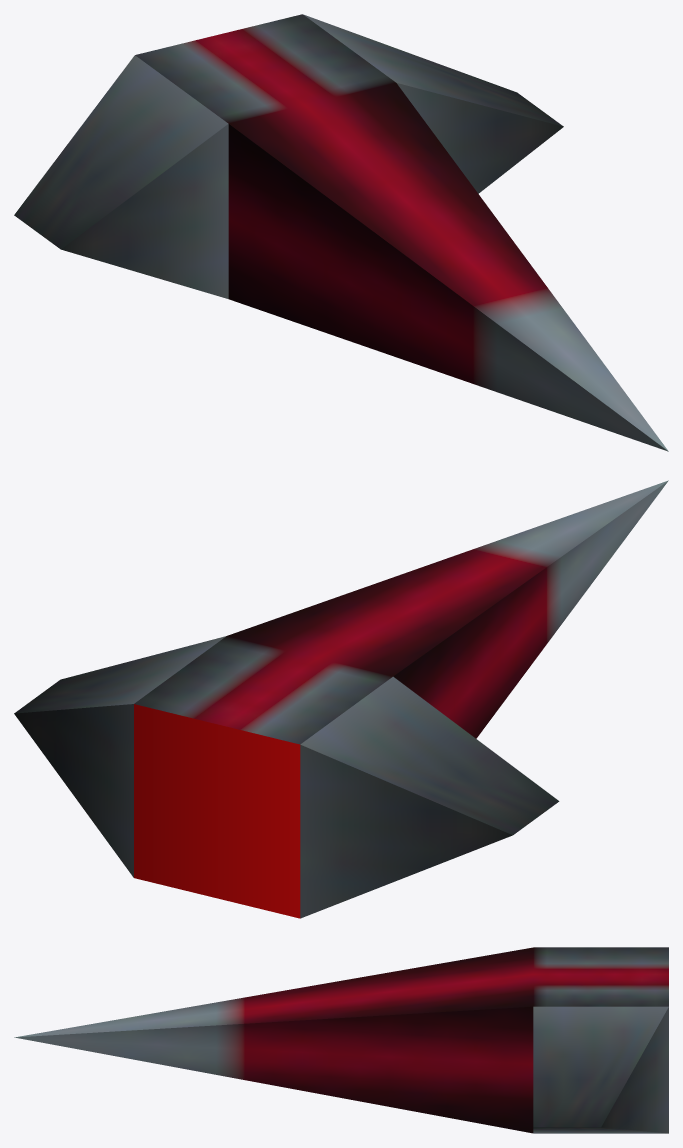
Rendered from round-row8.glb.
The picture shows the model from 3 angles, top to bottom: view 1: azimuth 30°, elevation 25°; view 2: azimuth 150°, elevation 25°; view 3: azimuth 270°, elevation 25°; orthographic projection. The views are drawn at different scales.
Parts seen in each view (by area): view 1: root; view 2: root; view 3: root.
Boxes of the visible parts, x1,y1,x2,y2 form: root: [14, 14, 668, 451]; root: [14, 480, 668, 918]; root: [14, 947, 668, 1133].
Bounding box in the file's own units: 0.1816 × 0.0605 × 0.2832.
1 material, 1 textured.
